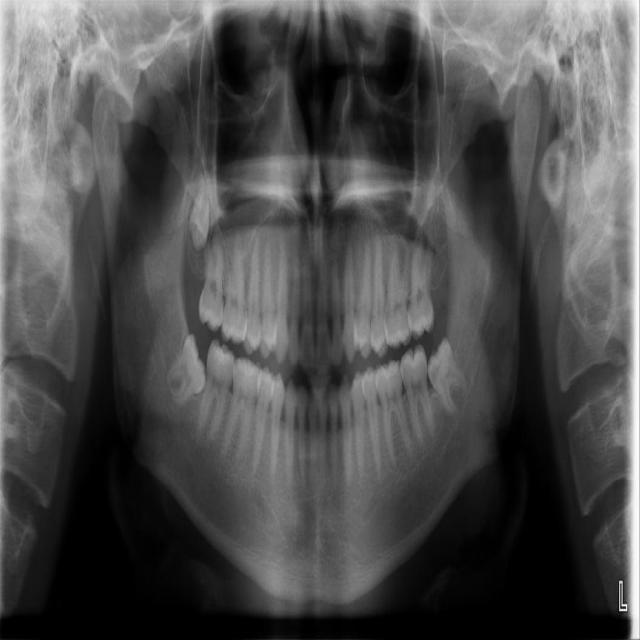impacted tooth: (428, 339, 472, 413), (166, 336, 202, 400), (187, 168, 211, 244)
